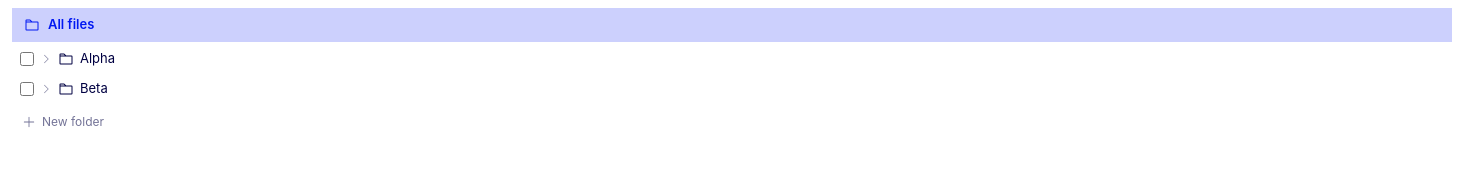
FolderTree › collapsing a folder hides its child
Expected: the text "Alpha" is shown, [80, 49, 115, 68]
Step 1. Click the button named "Expand Alpha" → coordinates (46, 58), box [36, 48, 56, 68]
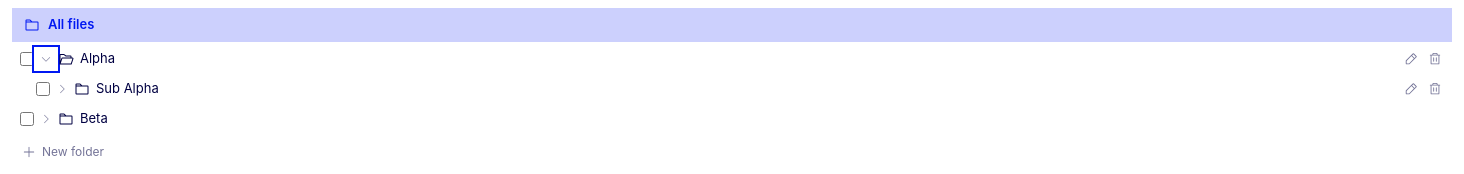
Now the text "Sub Alpha" is shown, box [96, 79, 159, 98]
Step 2. Click the button named "Collapse Alpha" → coordinates (46, 58), box [36, 48, 56, 68]
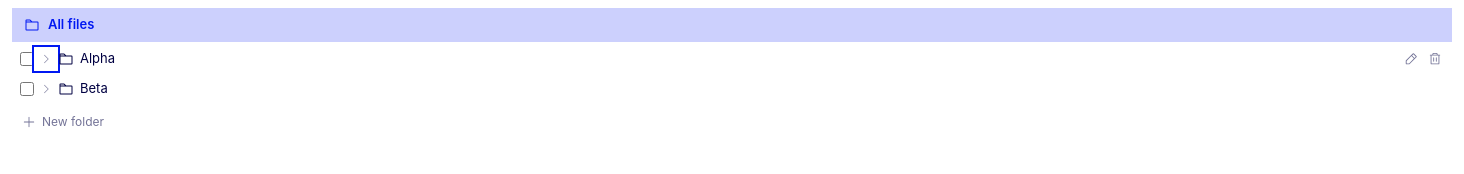
Now the button "Sub Alpha" is gone
